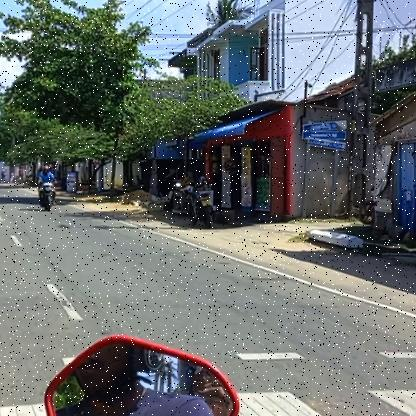motorcycle: (36, 181, 58, 212)
